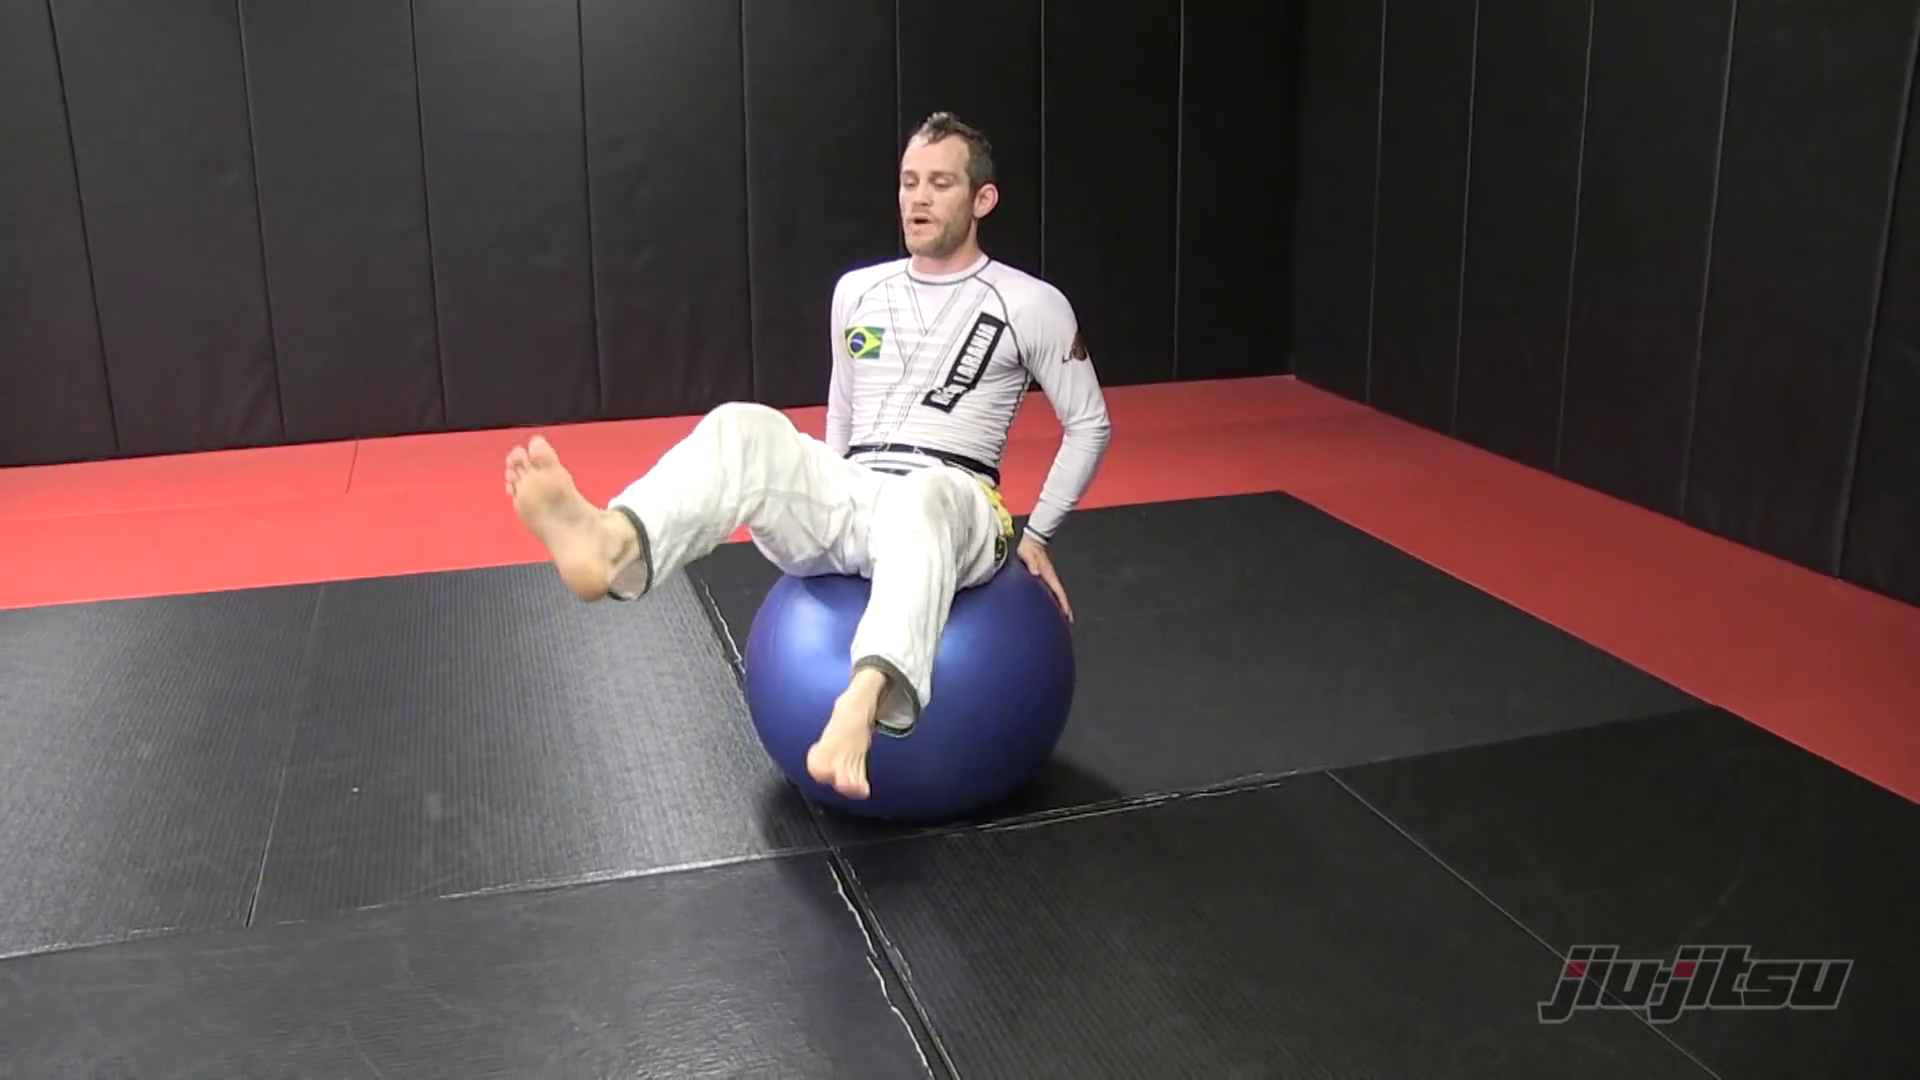yogaball: (733, 514, 1097, 835)
